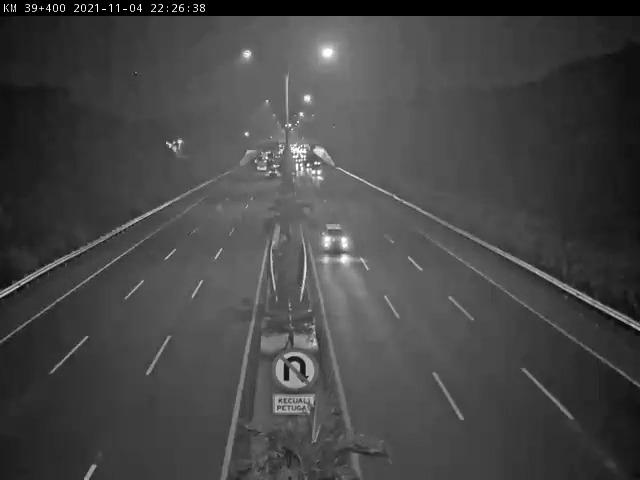car: (318, 215, 352, 265), (309, 159, 322, 182), (256, 159, 268, 176)
